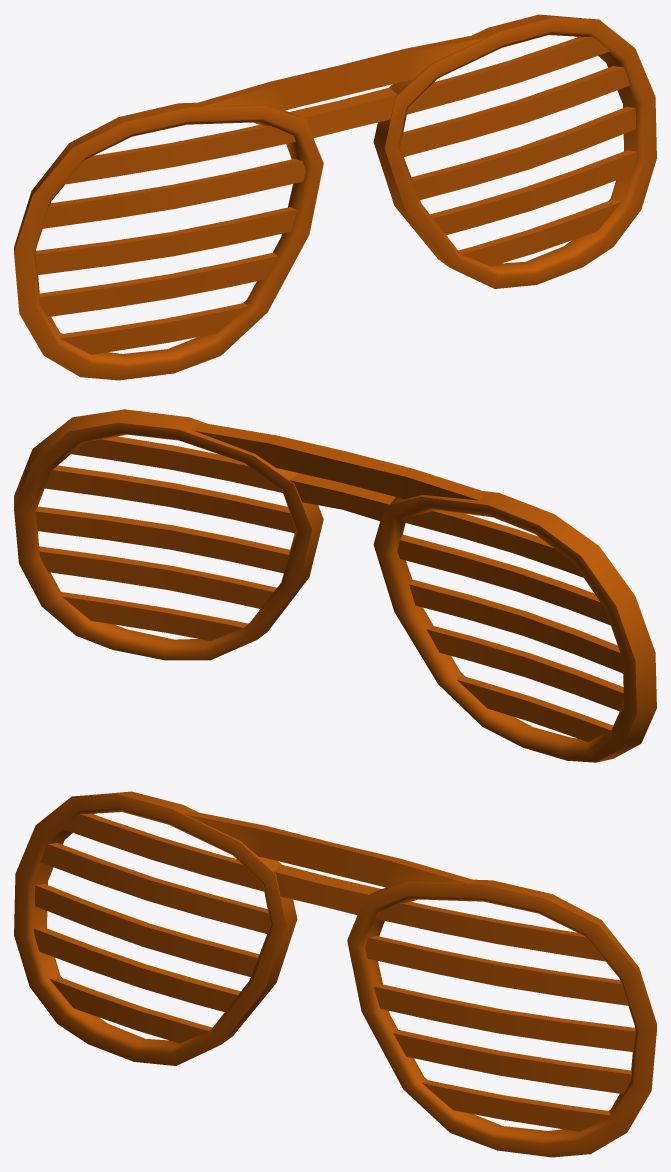
File: Face_GlassesShutter.fbx
3 views of the same model, one above another, from view 1: azimuth 30°, elevation 25°; view 2: azimuth 150°, elevation 25°; view 3: azimuth 330°, elevation 25° (orthographic).
Parts seen in each view (by area): view 1: Face_GlassesShutter; view 2: Face_GlassesShutter; view 3: Face_GlassesShutter.
Part boxes in pixels (left/top/right/bottom): Face_GlassesShutter: left=14, top=14, right=656, bottom=380; Face_GlassesShutter: left=14, top=409, right=656, bottom=762; Face_GlassesShutter: left=14, top=791, right=656, bottom=1157.
Size of the model in its own units: 1.55 by 0.5884 by 0.1521.
